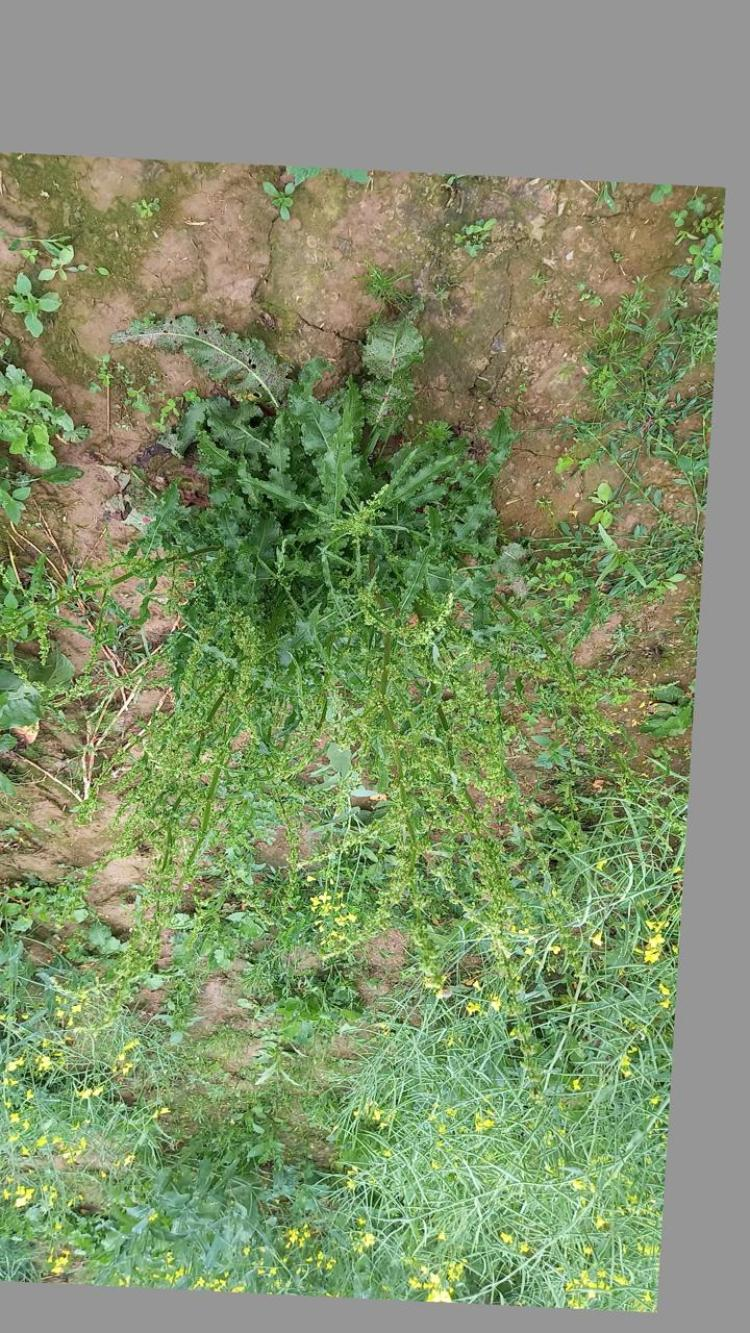zhavel: (69, 292, 681, 1067)
